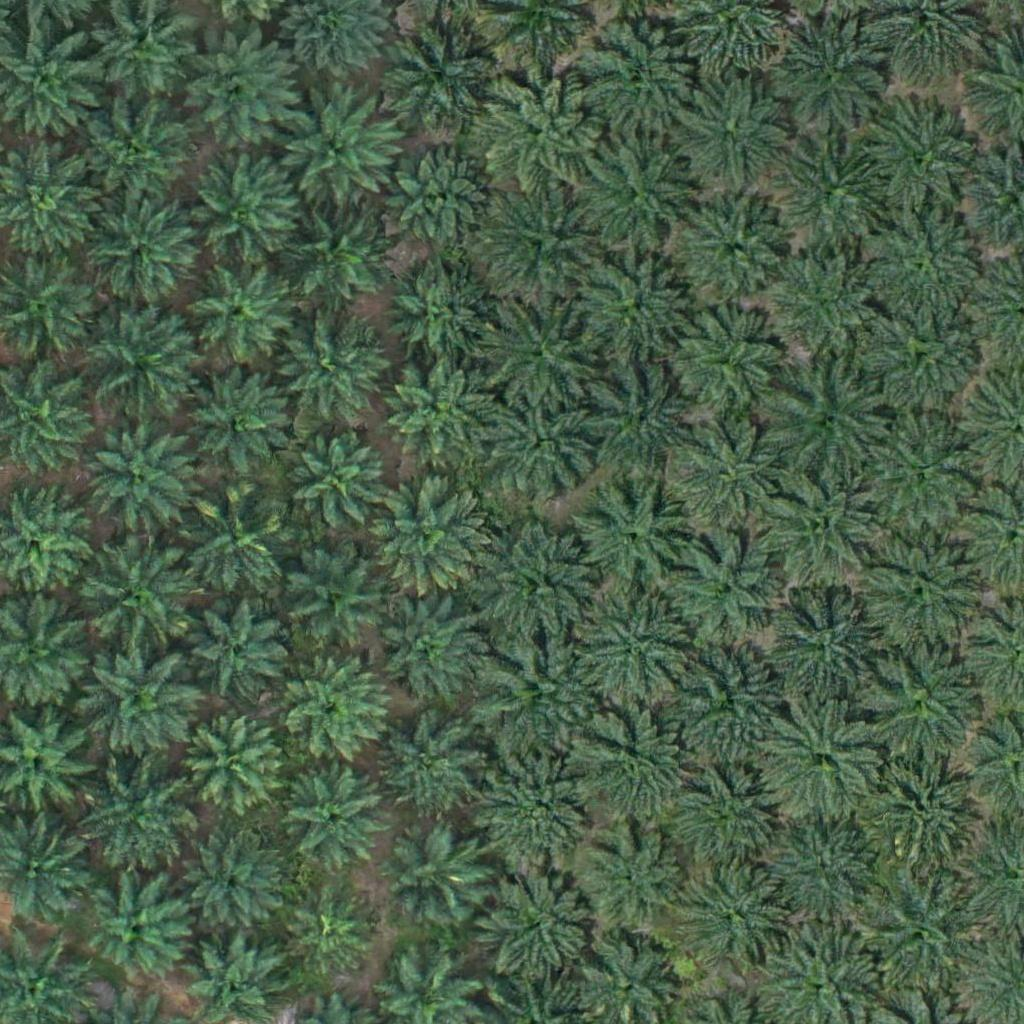Kelapa_Sawit: (385, 13, 510, 139), (484, 83, 609, 209), (78, 642, 203, 768), (367, 466, 492, 592), (363, 583, 488, 709), (480, 524, 605, 650), (480, 635, 605, 761), (577, 11, 702, 137), (674, 71, 799, 197), (771, 14, 896, 140), (770, 132, 895, 258), (580, 354, 705, 480), (767, 360, 892, 486), (756, 466, 881, 592), (764, 595, 889, 721), (857, 531, 982, 657), (857, 413, 982, 539), (864, 297, 989, 423), (864, 213, 989, 339), (477, 744, 602, 870), (568, 709, 693, 835), (760, 699, 885, 825), (868, 740, 993, 866), (858, 863, 983, 989), (274, 91, 399, 216), (488, 285, 613, 410), (575, 587, 700, 712), (472, 861, 597, 986), (182, 32, 295, 146), (84, 99, 197, 213), (576, 143, 689, 257), (760, 252, 873, 366), (761, 823, 874, 937), (187, 153, 300, 266), (276, 313, 389, 426), (79, 763, 192, 876), (581, 246, 694, 359), (572, 484, 685, 597), (672, 530, 785, 643), (673, 418, 786, 531), (83, 416, 195, 530), (81, 539, 193, 653), (178, 490, 290, 604), (278, 657, 390, 771), (678, 192, 790, 306), (673, 308, 785, 422), (88, 193, 200, 306), (87, 313, 199, 426), (379, 356, 491, 469), (487, 392, 599, 505), (866, 650, 978, 763), (188, 259, 288, 360), (186, 366, 286, 467), (287, 211, 387, 312), (288, 434, 388, 535), (393, 141, 493, 242), (388, 266, 488, 367), (494, 192, 594, 293), (185, 838, 285, 939), (86, 878, 186, 979), (874, 108, 974, 209), (580, 827, 680, 928), (688, 869, 788, 970), (192, 595, 292, 695), (282, 549, 382, 649), (379, 721, 479, 821), (387, 829, 487, 929), (286, 771, 386, 871), (183, 716, 283, 816), (669, 762, 769, 862), (679, 649, 778, 749), (287, 891, 375, 979)
